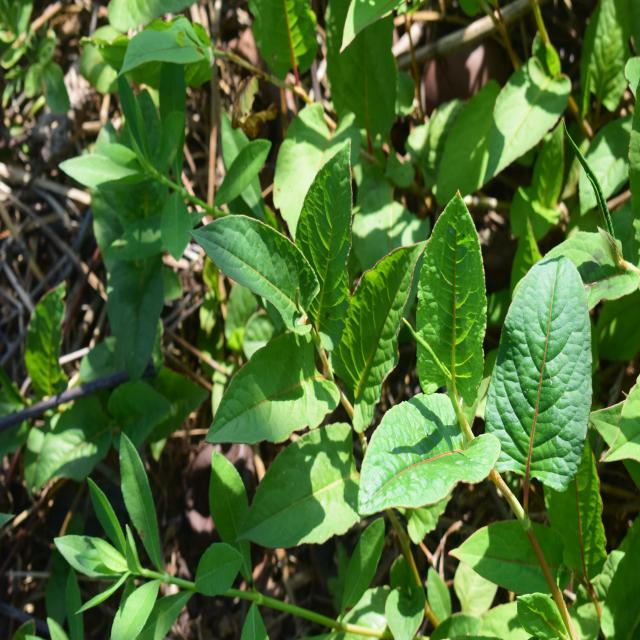Chinese_knotweed: (201, 152, 401, 515), (396, 208, 584, 543)
